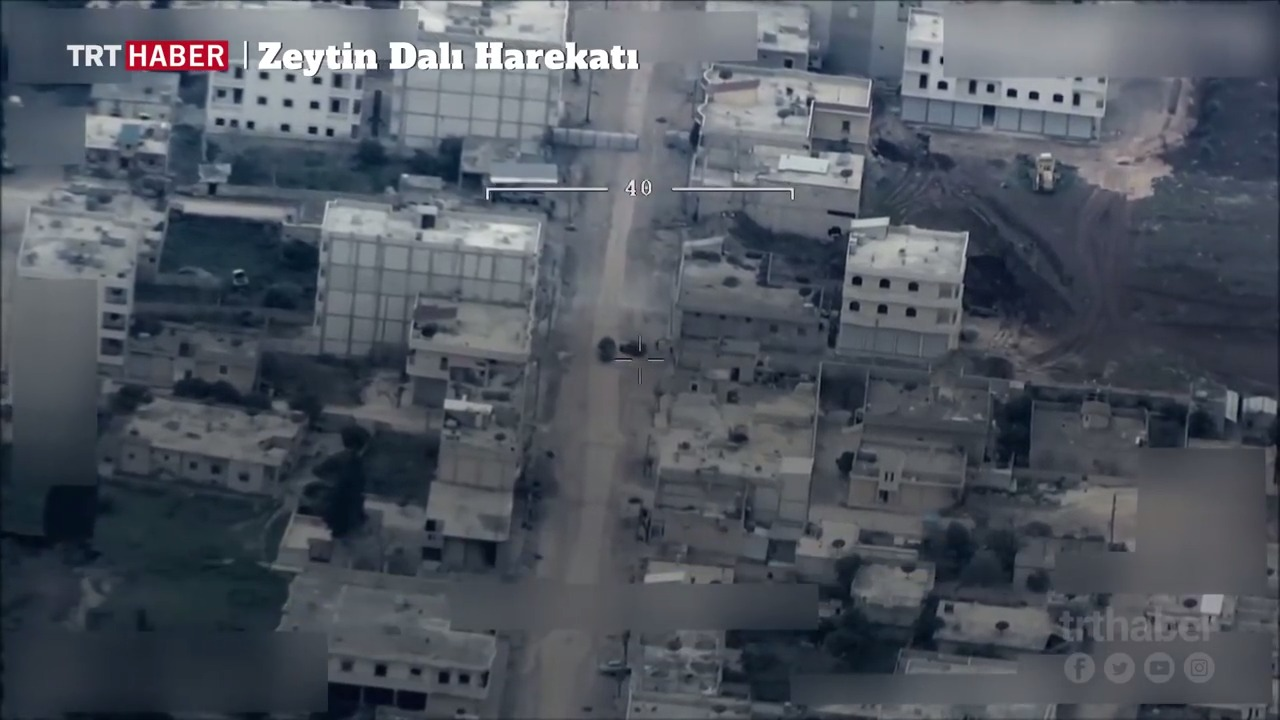arac: (1034, 149, 1079, 193), (592, 331, 620, 365), (226, 260, 254, 286), (621, 338, 651, 360)
bina: (308, 205, 548, 365), (677, 64, 886, 220), (109, 385, 303, 507), (835, 224, 997, 364), (668, 249, 834, 380), (326, 599, 509, 700), (851, 425, 978, 522)
